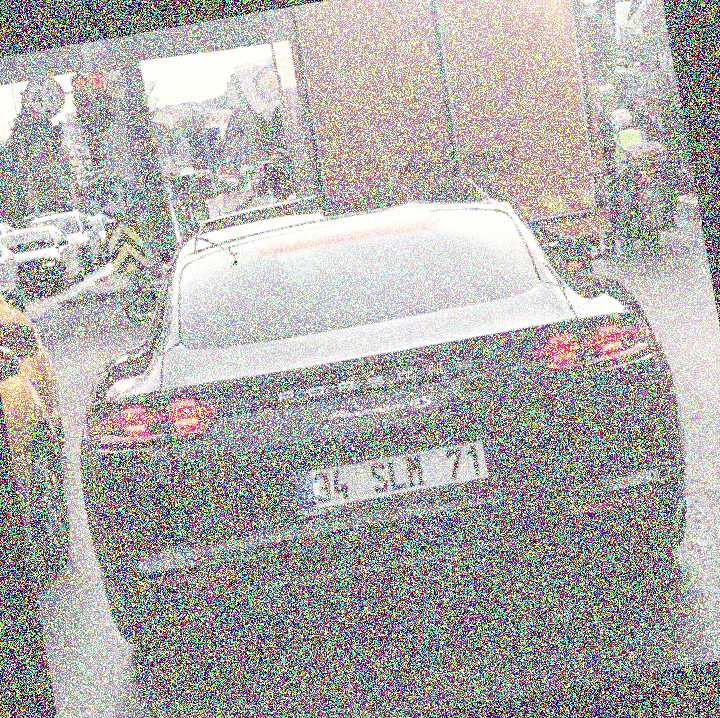plaka: (307, 445, 492, 505)
